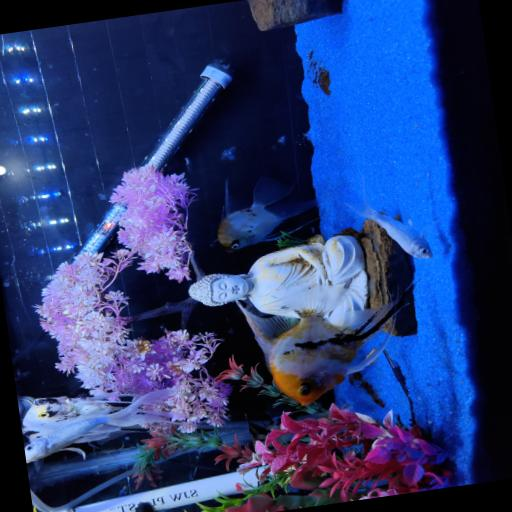Fish: (237, 286, 404, 405), (24, 389, 173, 462), (218, 177, 317, 252), (346, 192, 433, 258), (23, 394, 133, 437)
